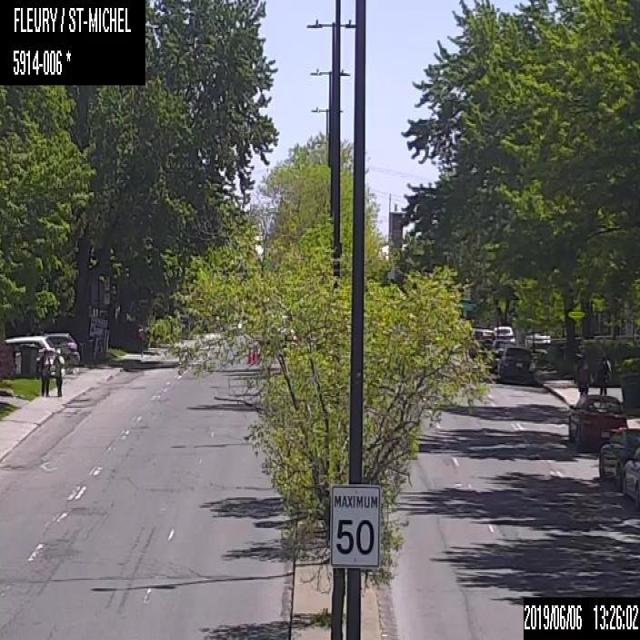construction: (247, 342, 253, 366), (252, 343, 258, 366)
pedestrian: (574, 345, 590, 395), (38, 346, 52, 395), (54, 348, 63, 397)
vehicle: (564, 392, 628, 450), (596, 423, 638, 482), (496, 340, 536, 384), (619, 446, 639, 511), (592, 348, 611, 396), (7, 335, 53, 353), (44, 332, 79, 352)
